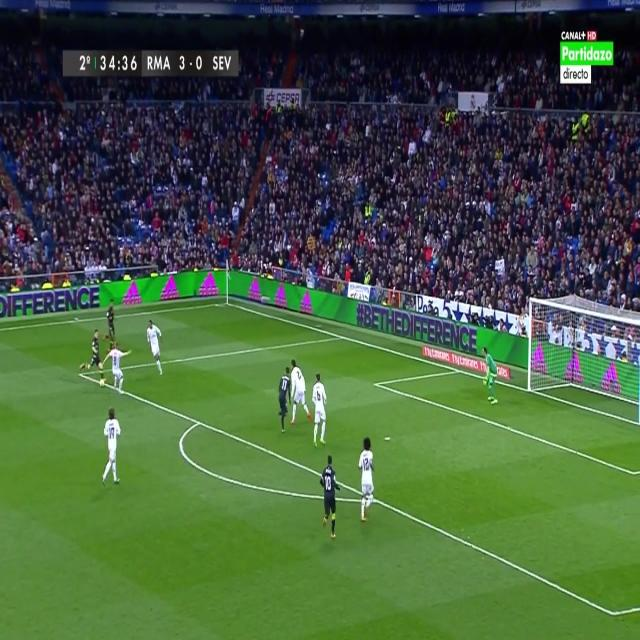Ball: (98, 376, 107, 389)
Goalkeeper: (480, 347, 500, 408)
Player: (318, 454, 342, 542), (99, 407, 123, 489), (288, 357, 313, 428), (360, 435, 378, 529), (103, 344, 133, 394), (144, 319, 166, 381), (274, 364, 292, 437), (313, 371, 329, 451), (78, 330, 104, 376), (104, 297, 117, 343)
